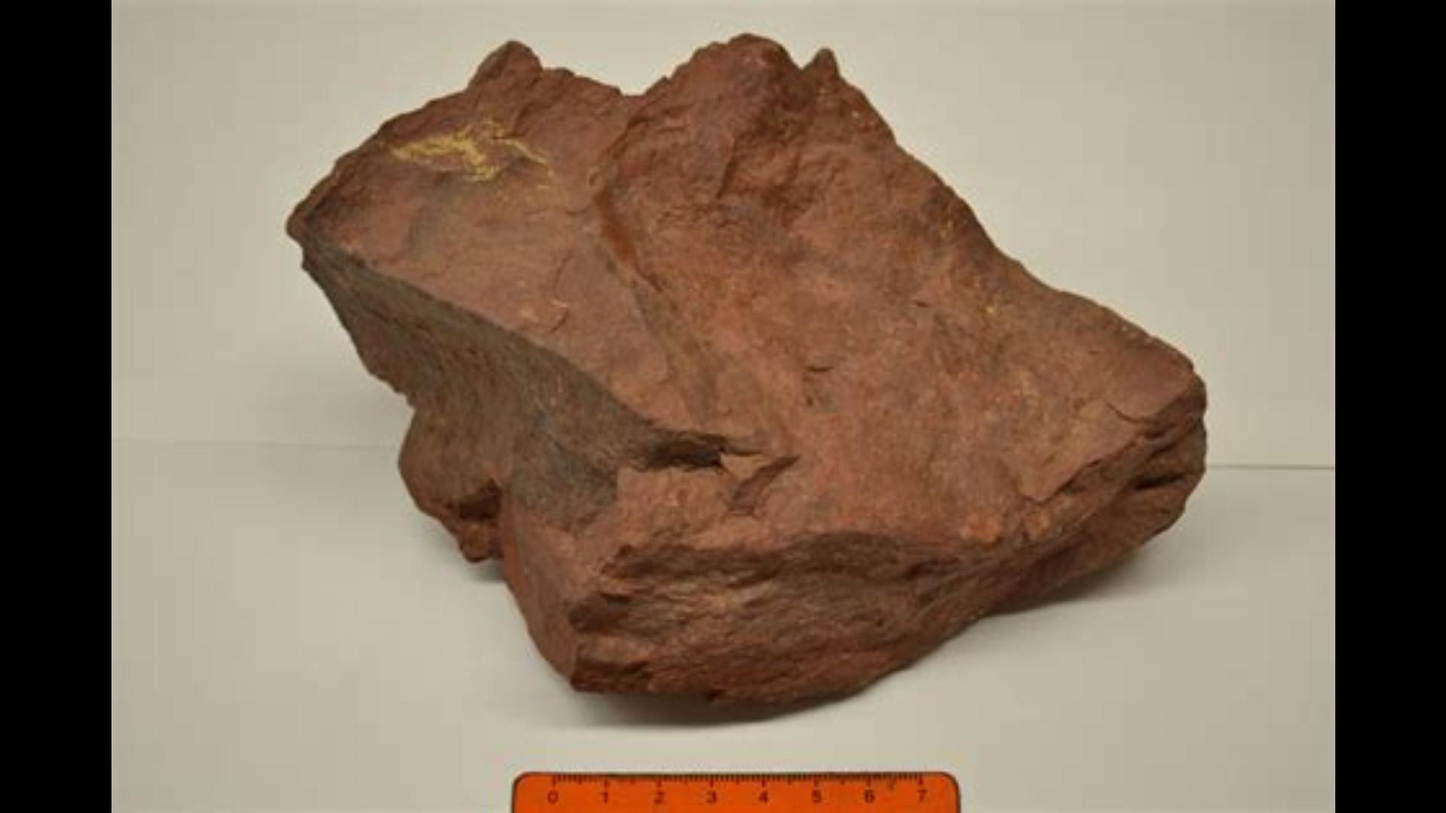rock: (289, 36, 1195, 694)
